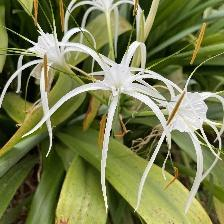spider lily: (22, 38, 177, 215)
